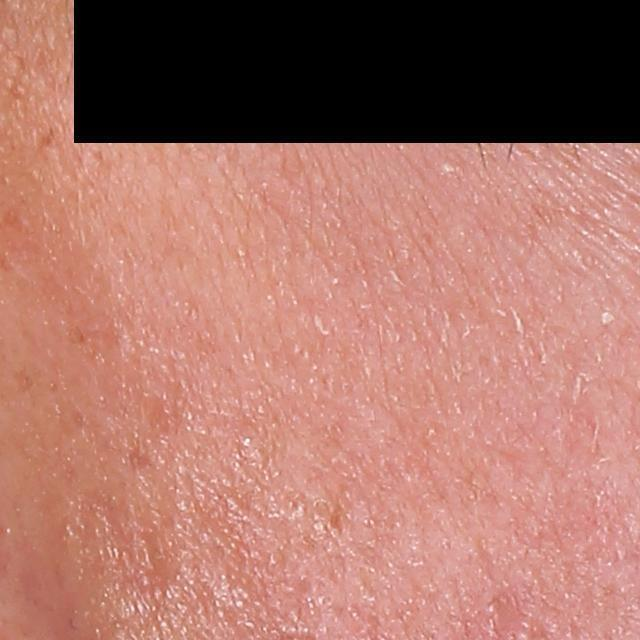comedo: (438, 156, 465, 180)
